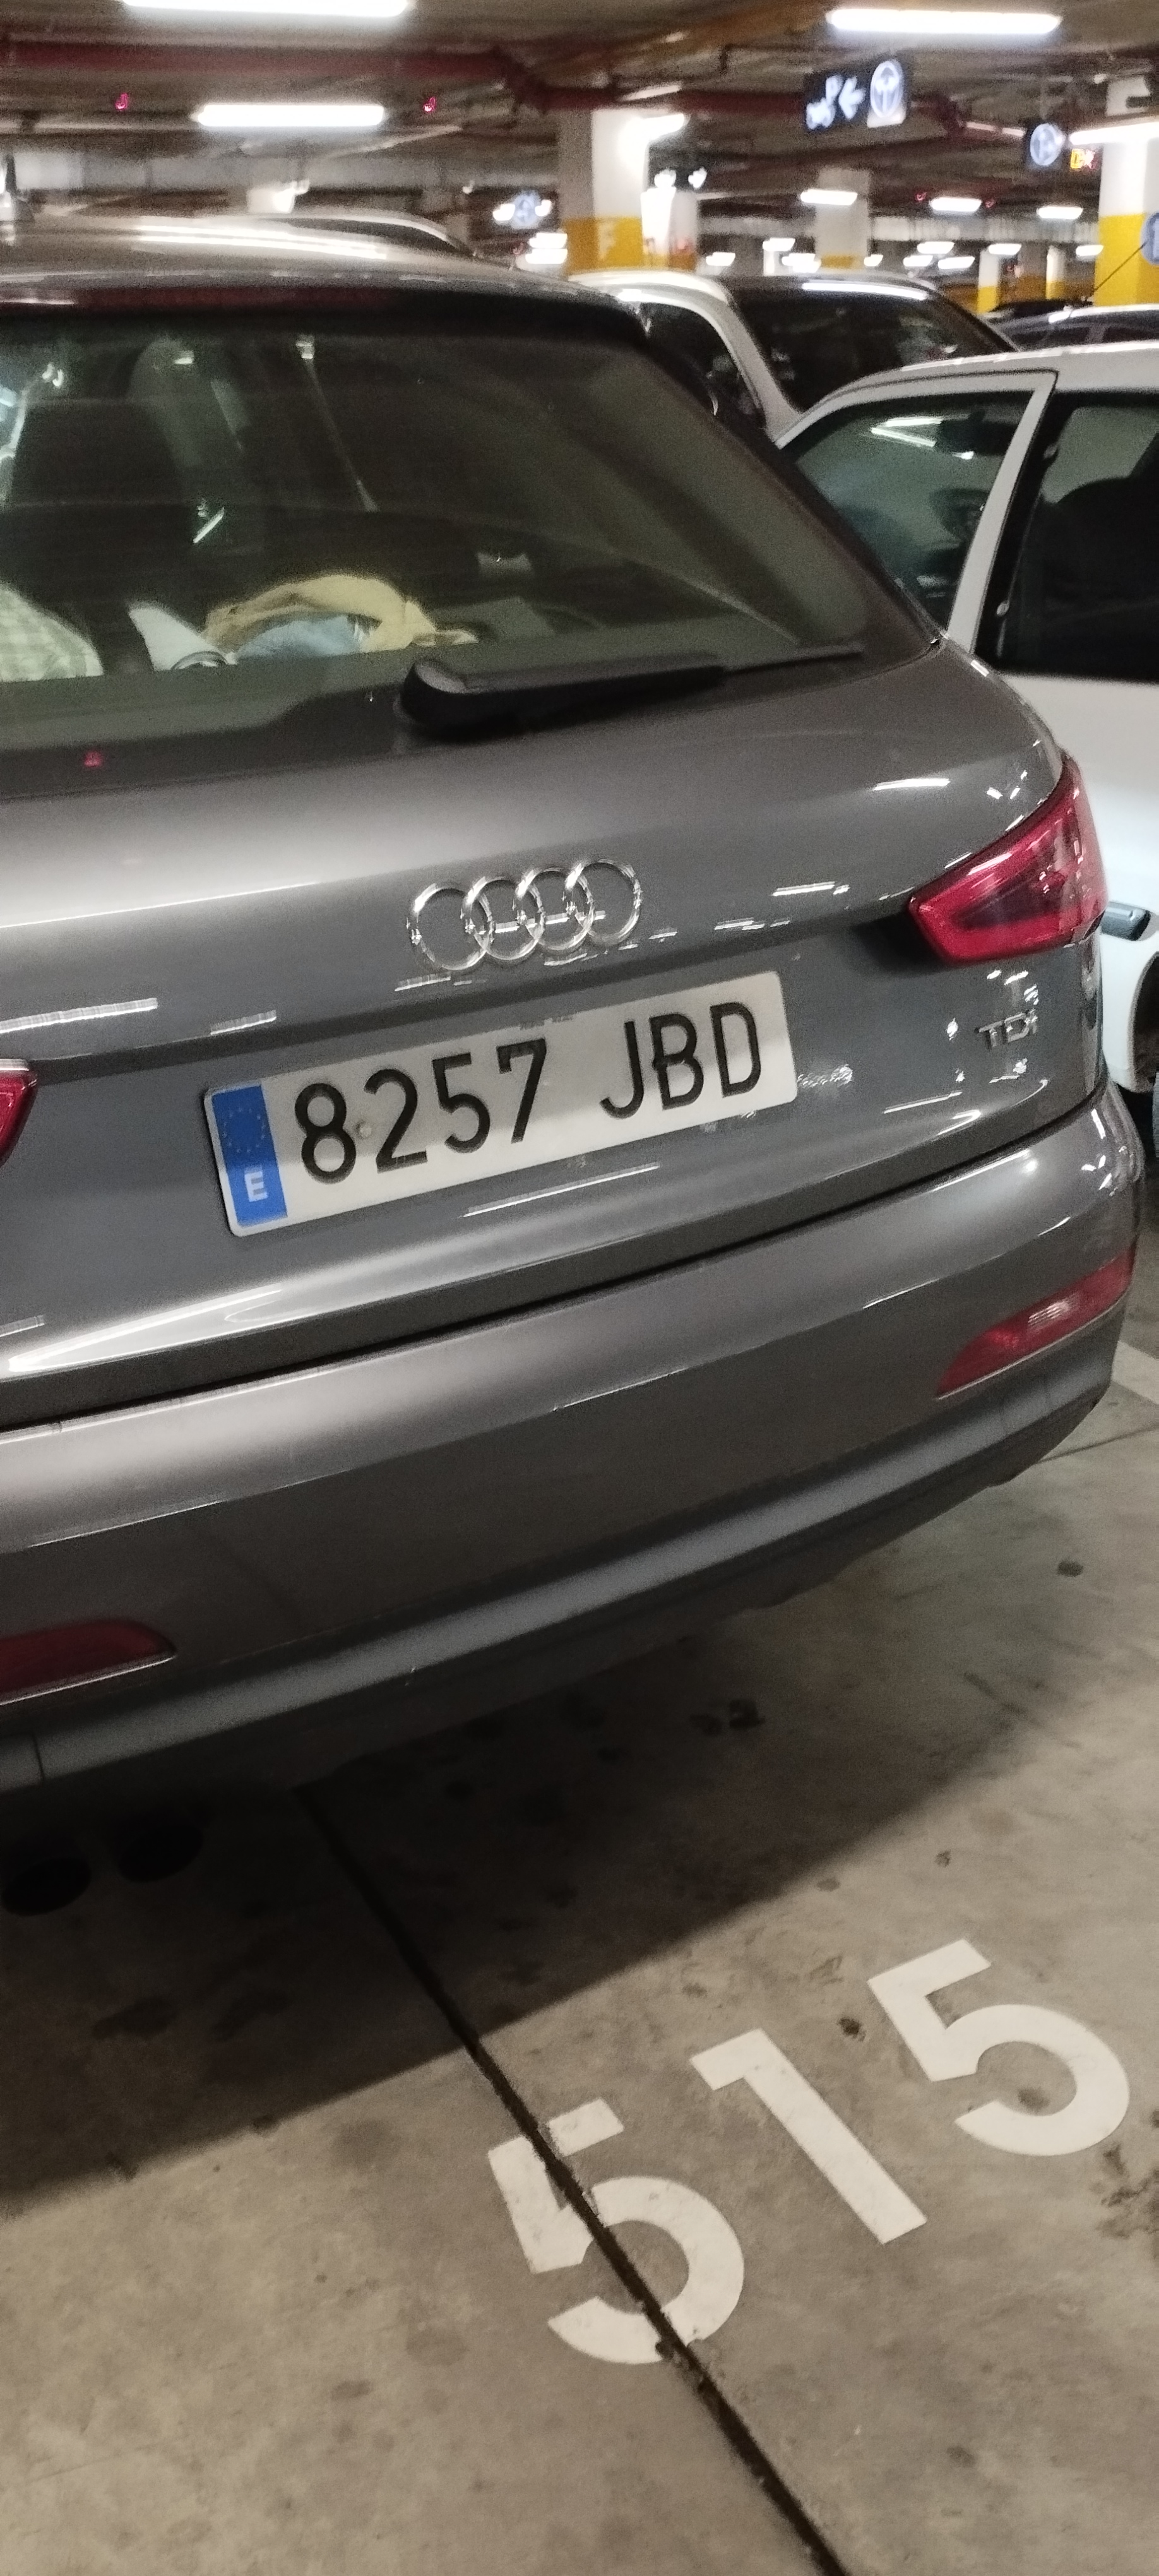Car: (0, 206, 1079, 1777)
Plate: (193, 1084, 797, 1246)
